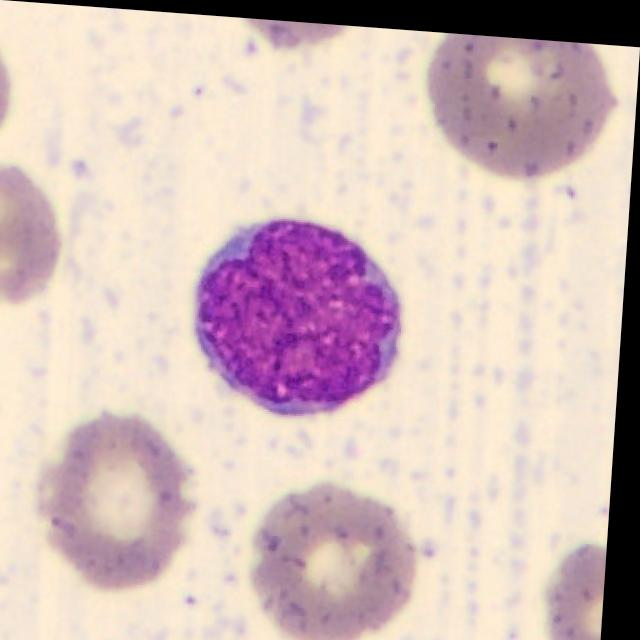Linfocito: (197, 212, 407, 411)
